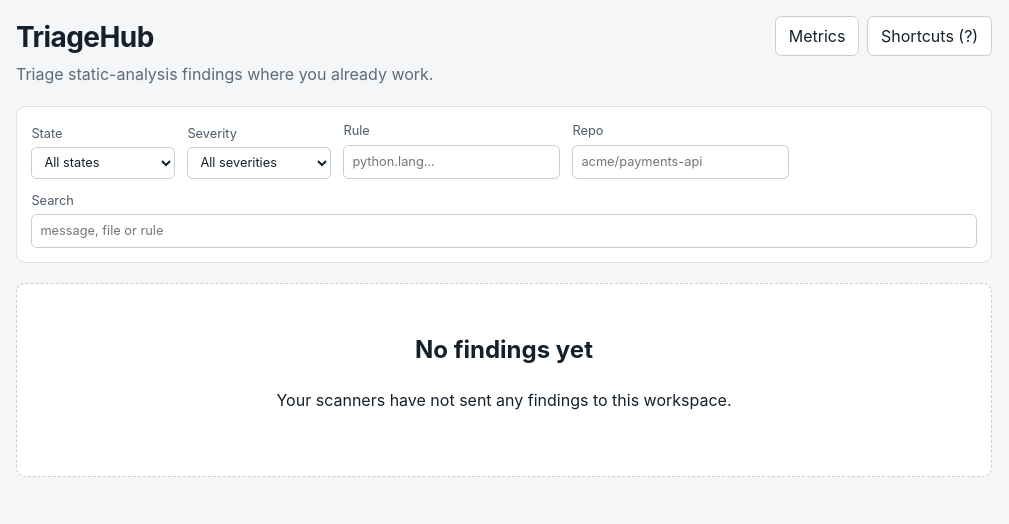
Test case: TriageHub console › distinguishes no findings from no filter matches
Expected: the heading "No findings yet" is shown, [415,335,593,364]
In the search field labelled "Search": [504, 231] box [31,214,977,248], type "eval"
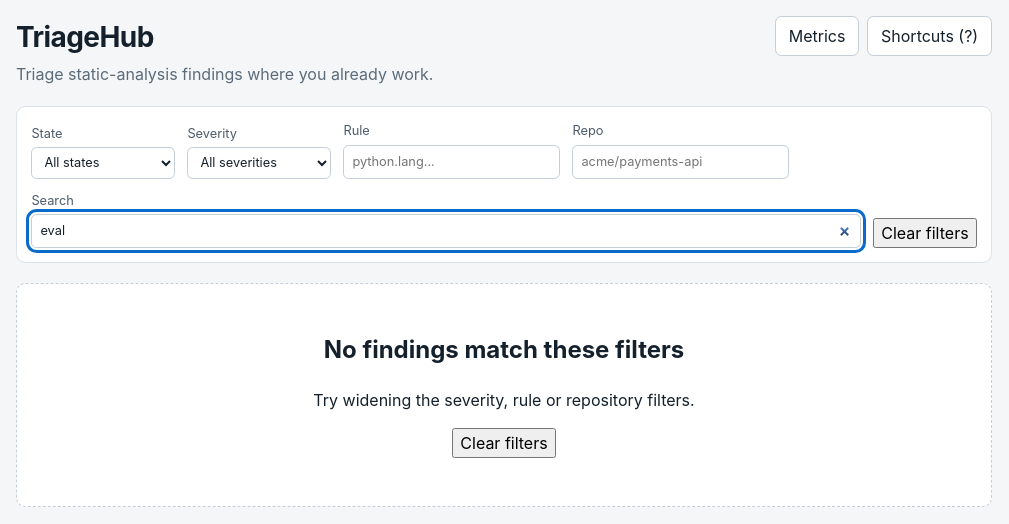
Result: the heading "No findings match these filters" is shown at [324,335,684,364]
